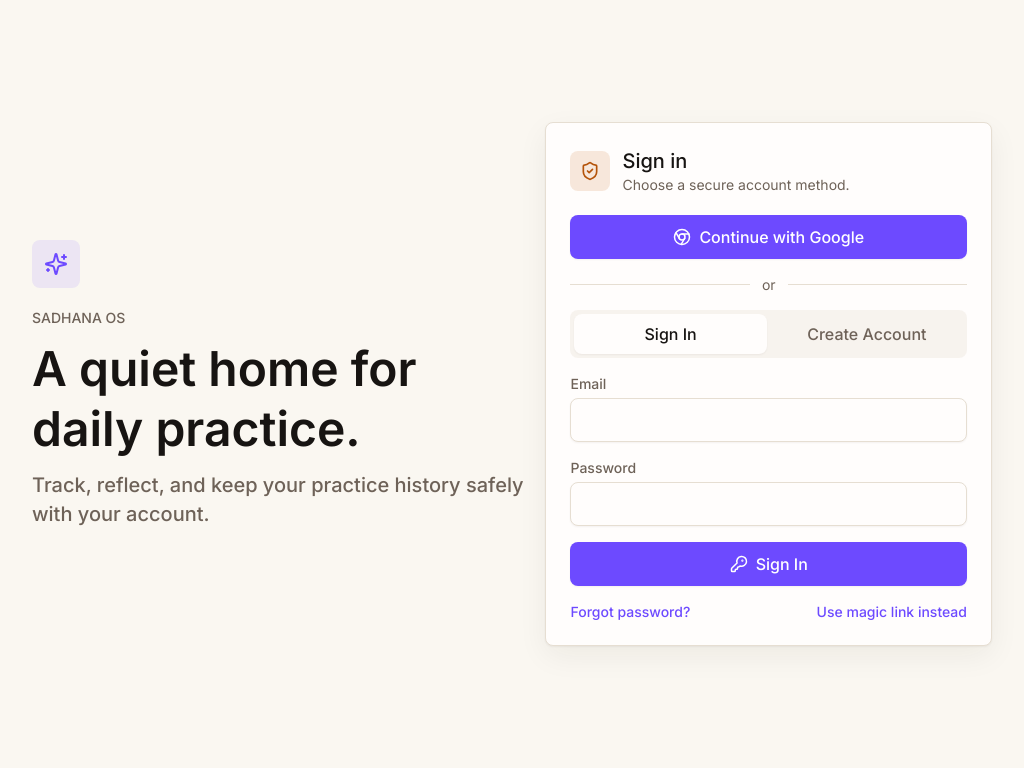
Scenario: AuthScreen › validates email format before password sign-in
The image size is (1024, 768).
Type "not-an-email" into the field labelled "Email" at [769, 420], box x1=570 y1=398 x2=967 y2=442
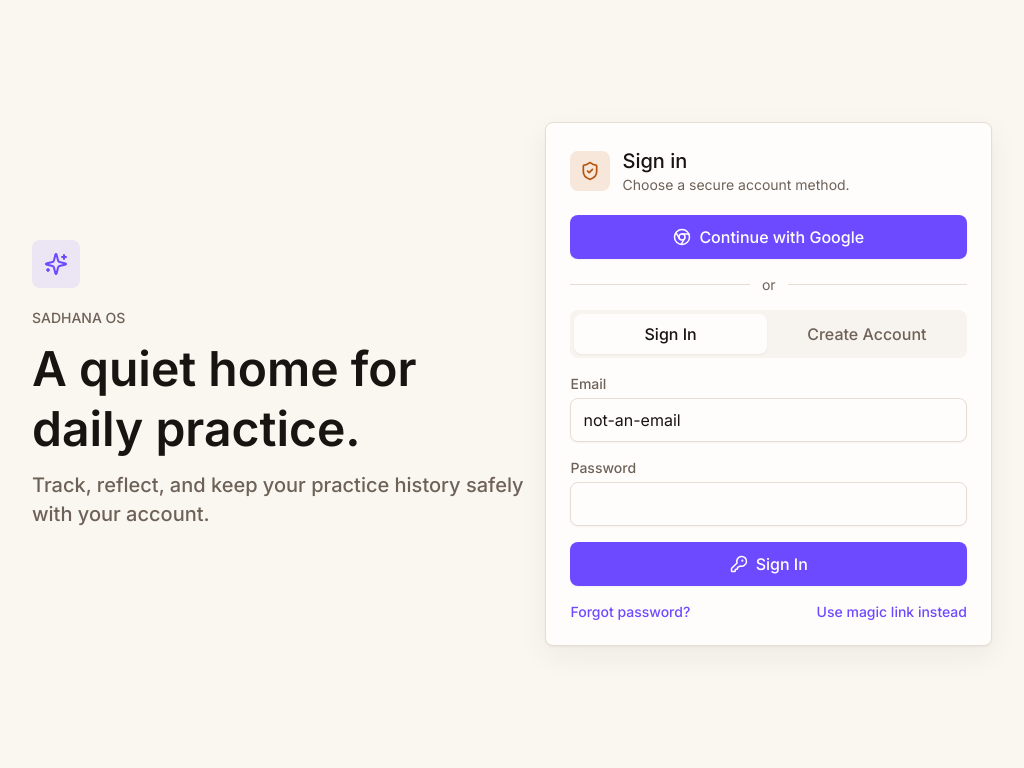
Type "clear-mind-108" into the password field labelled "Password" at [769, 504], box x1=570 y1=482 x2=967 y2=526
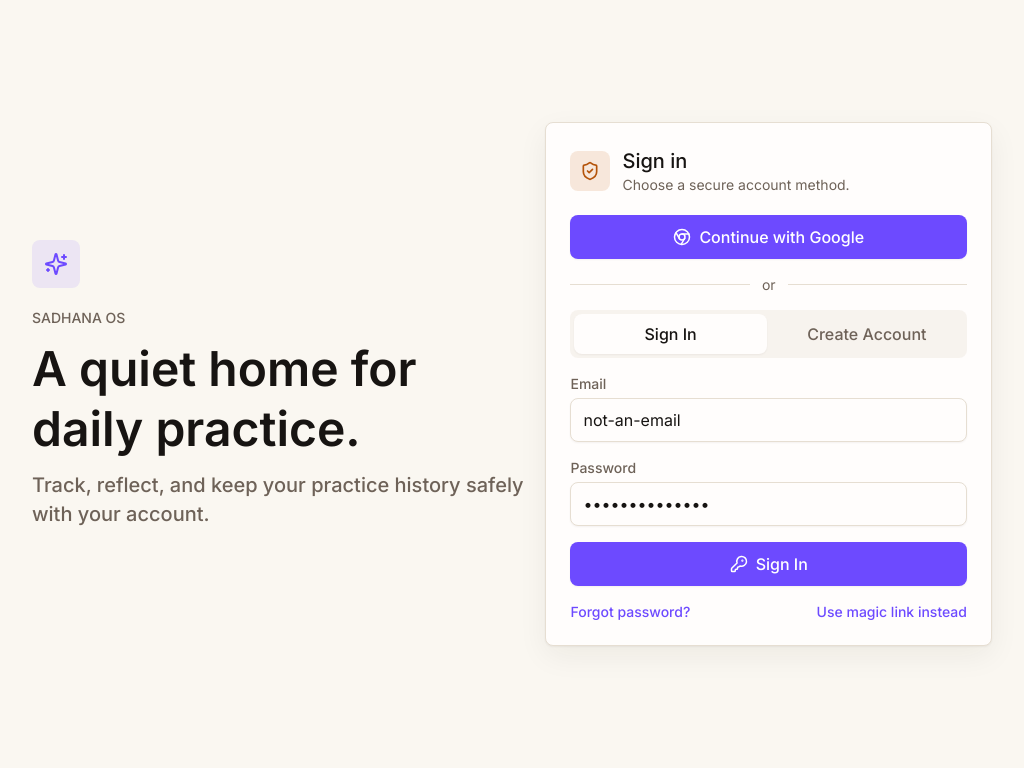
Click the 2nd button "Sign In" at [769, 564], box x1=570 y1=542 x2=967 y2=586
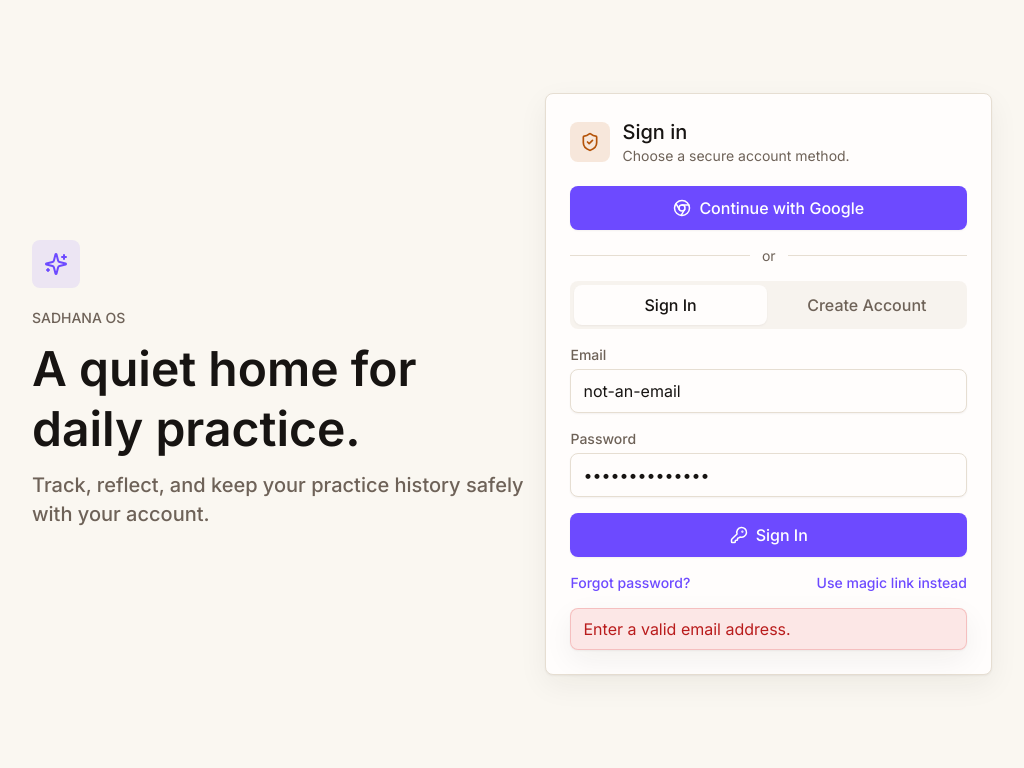
Check: the message reads "Enter a valid email address.", box x1=584 y1=619 x2=791 y2=639
